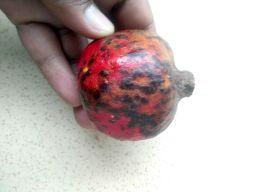pomegranate: (75, 31, 194, 141)
